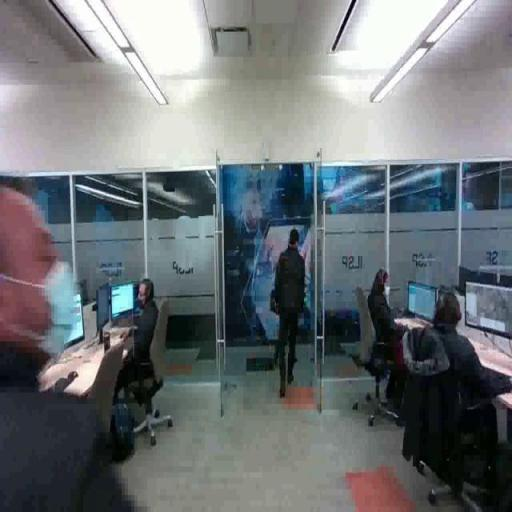person: (3, 180, 154, 512), (269, 223, 307, 399)
